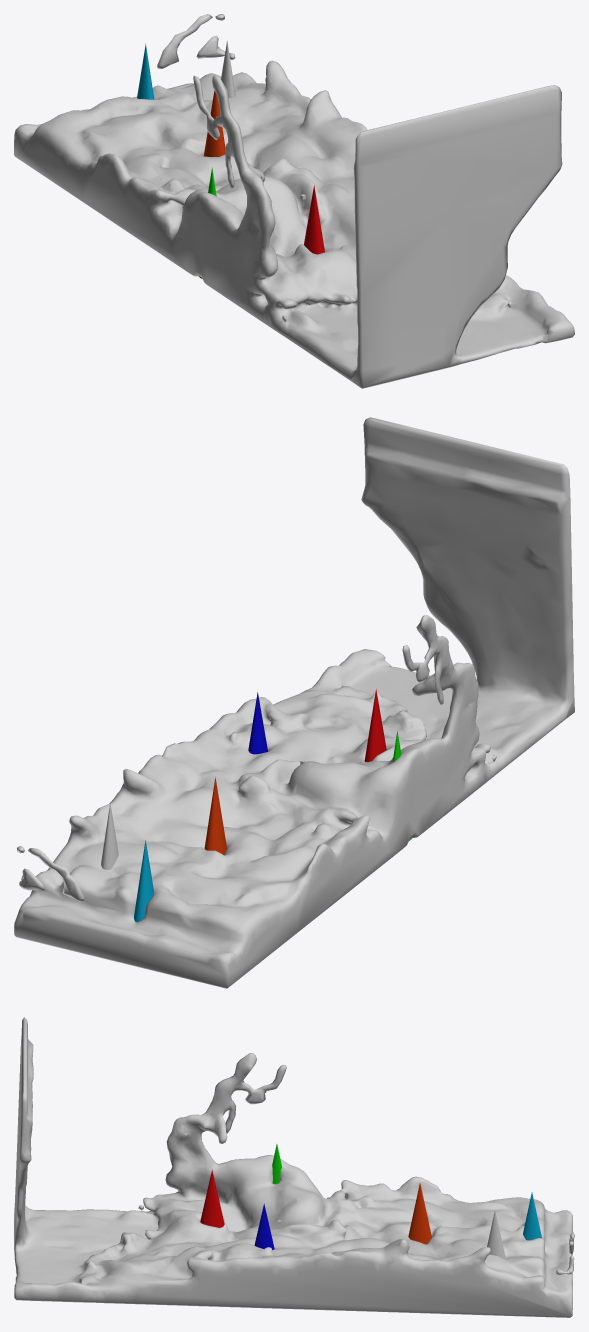
3 renders of one model, top to bottom at view 1: azimuth 30°, elevation 25°; view 2: azimuth 150°, elevation 25°; view 3: azimuth 270°, elevation 25°, orthographic. The views are drawn at different scales.
Parts seen in each view (by area): view 1: Liquid_Domain, 円錐.001, 円錐.004, 円錐.005; view 2: Liquid_Domain, 円錐.004, 円錐.005, 円錐.001; view 3: Liquid_Domain, 円錐.004, 円錐.001, 円錐.005, 円錐.002, 円錐.
Boxes of the visible parts, <box> form: Liquid_Domain: <box>14,14,574,388</box>; 円錐.001: <box>304,185,324,254</box>; 円錐.004: <box>204,90,225,157</box>; 円錐.005: <box>137,43,154,99</box>; Liquid_Domain: <box>14,417,574,988</box>; 円錐.004: <box>204,777,226,854</box>; 円錐.005: <box>134,840,153,922</box>; 円錐.001: <box>364,689,386,762</box>; Liquid_Domain: <box>14,1017,574,1317</box>; 円錐.004: <box>408,1183,431,1244</box>; 円錐.001: <box>200,1170,224,1227</box>; 円錐.005: <box>523,1192,545,1252</box>; 円錐.002: <box>254,1203,274,1249</box>; 円錐: <box>487,1210,505,1259</box>.
Size of the model in its own units: 129 by 158 by 362.
